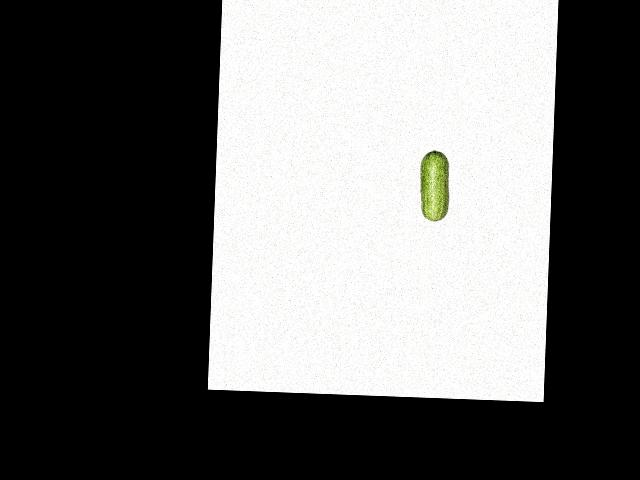cucumber: (419, 149, 450, 221)
